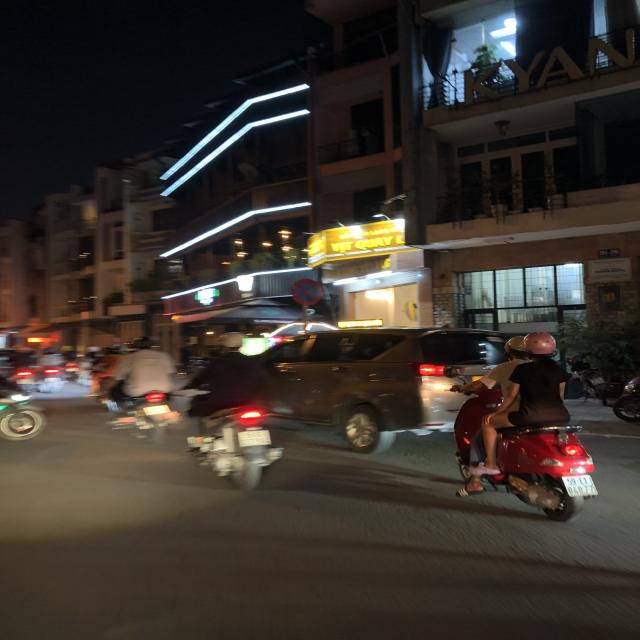Bien bao cam dung xe va do xe: (286, 275, 329, 308)
